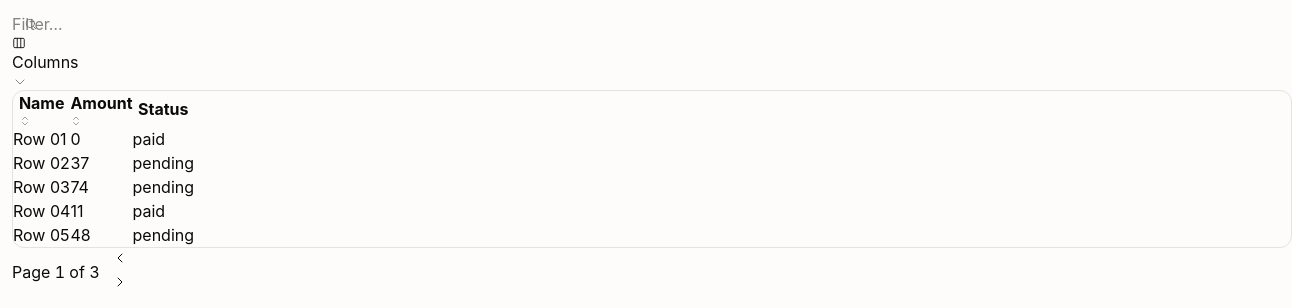
Test: DataTable › paginates with next
Click the 2nd button named "Next" at (120, 282), box x1=112 y1=274 x2=128 y2=290
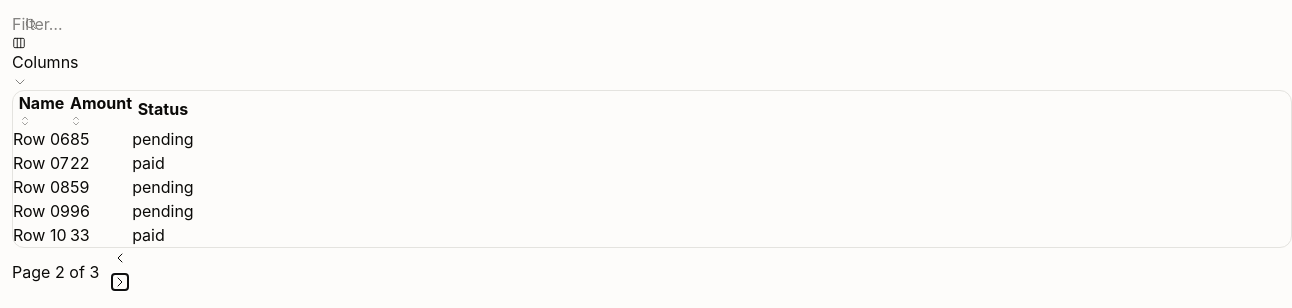
Now the text "Page 2 of 3" is shown, box x1=12 y1=260 x2=100 y2=284
Now the text "Row 06" is shown, box x1=13 y1=127 x2=70 y2=151
